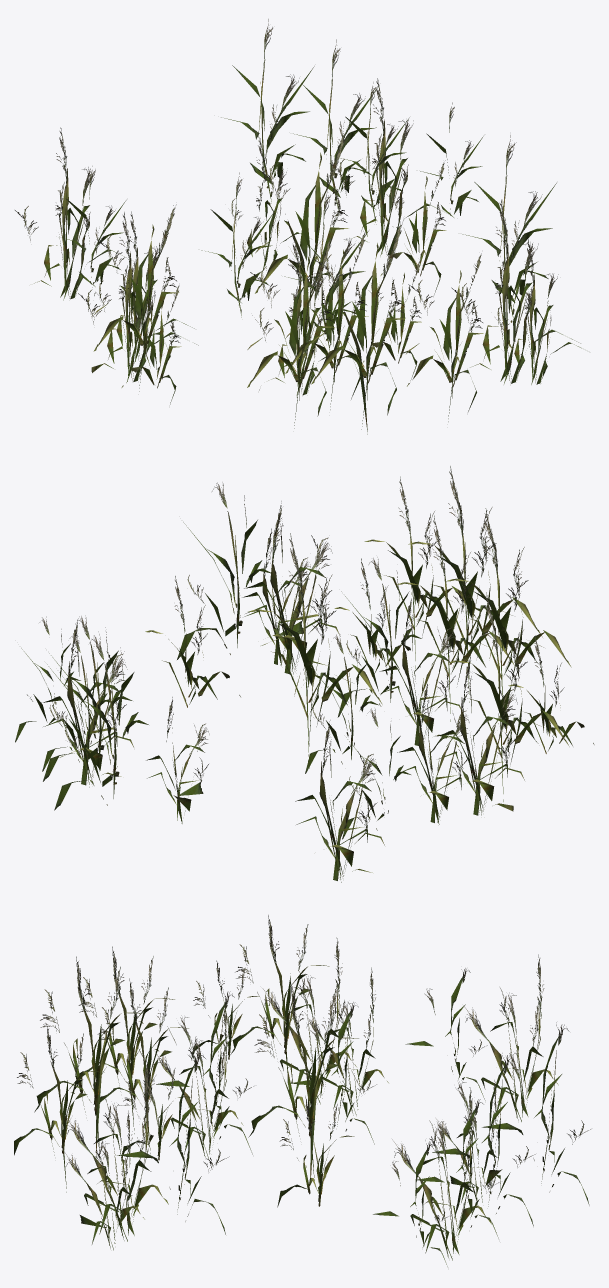
The model's file is grass_mid.gltf.
3 renders of one model, top to bottom at view 1: azimuth 30°, elevation 25°; view 2: azimuth 150°, elevation 25°; view 3: azimuth 270°, elevation 25°, orthographic.
Parts seen in each view (by area): view 1: alpine_grass_patch.001; view 2: alpine_grass_patch.001; view 3: alpine_grass_patch.001.
Boxes of the visible parts, x1,y1,x2,y2 form: alpine_grass_patch.001: (15, 19, 581, 434); alpine_grass_patch.001: (15, 466, 594, 882); alpine_grass_patch.001: (14, 915, 590, 1266).
Bounding box in the file's own units: 1.29 × 0.5816 × 1.38.
Materials: 1 (1 with a texture image).
